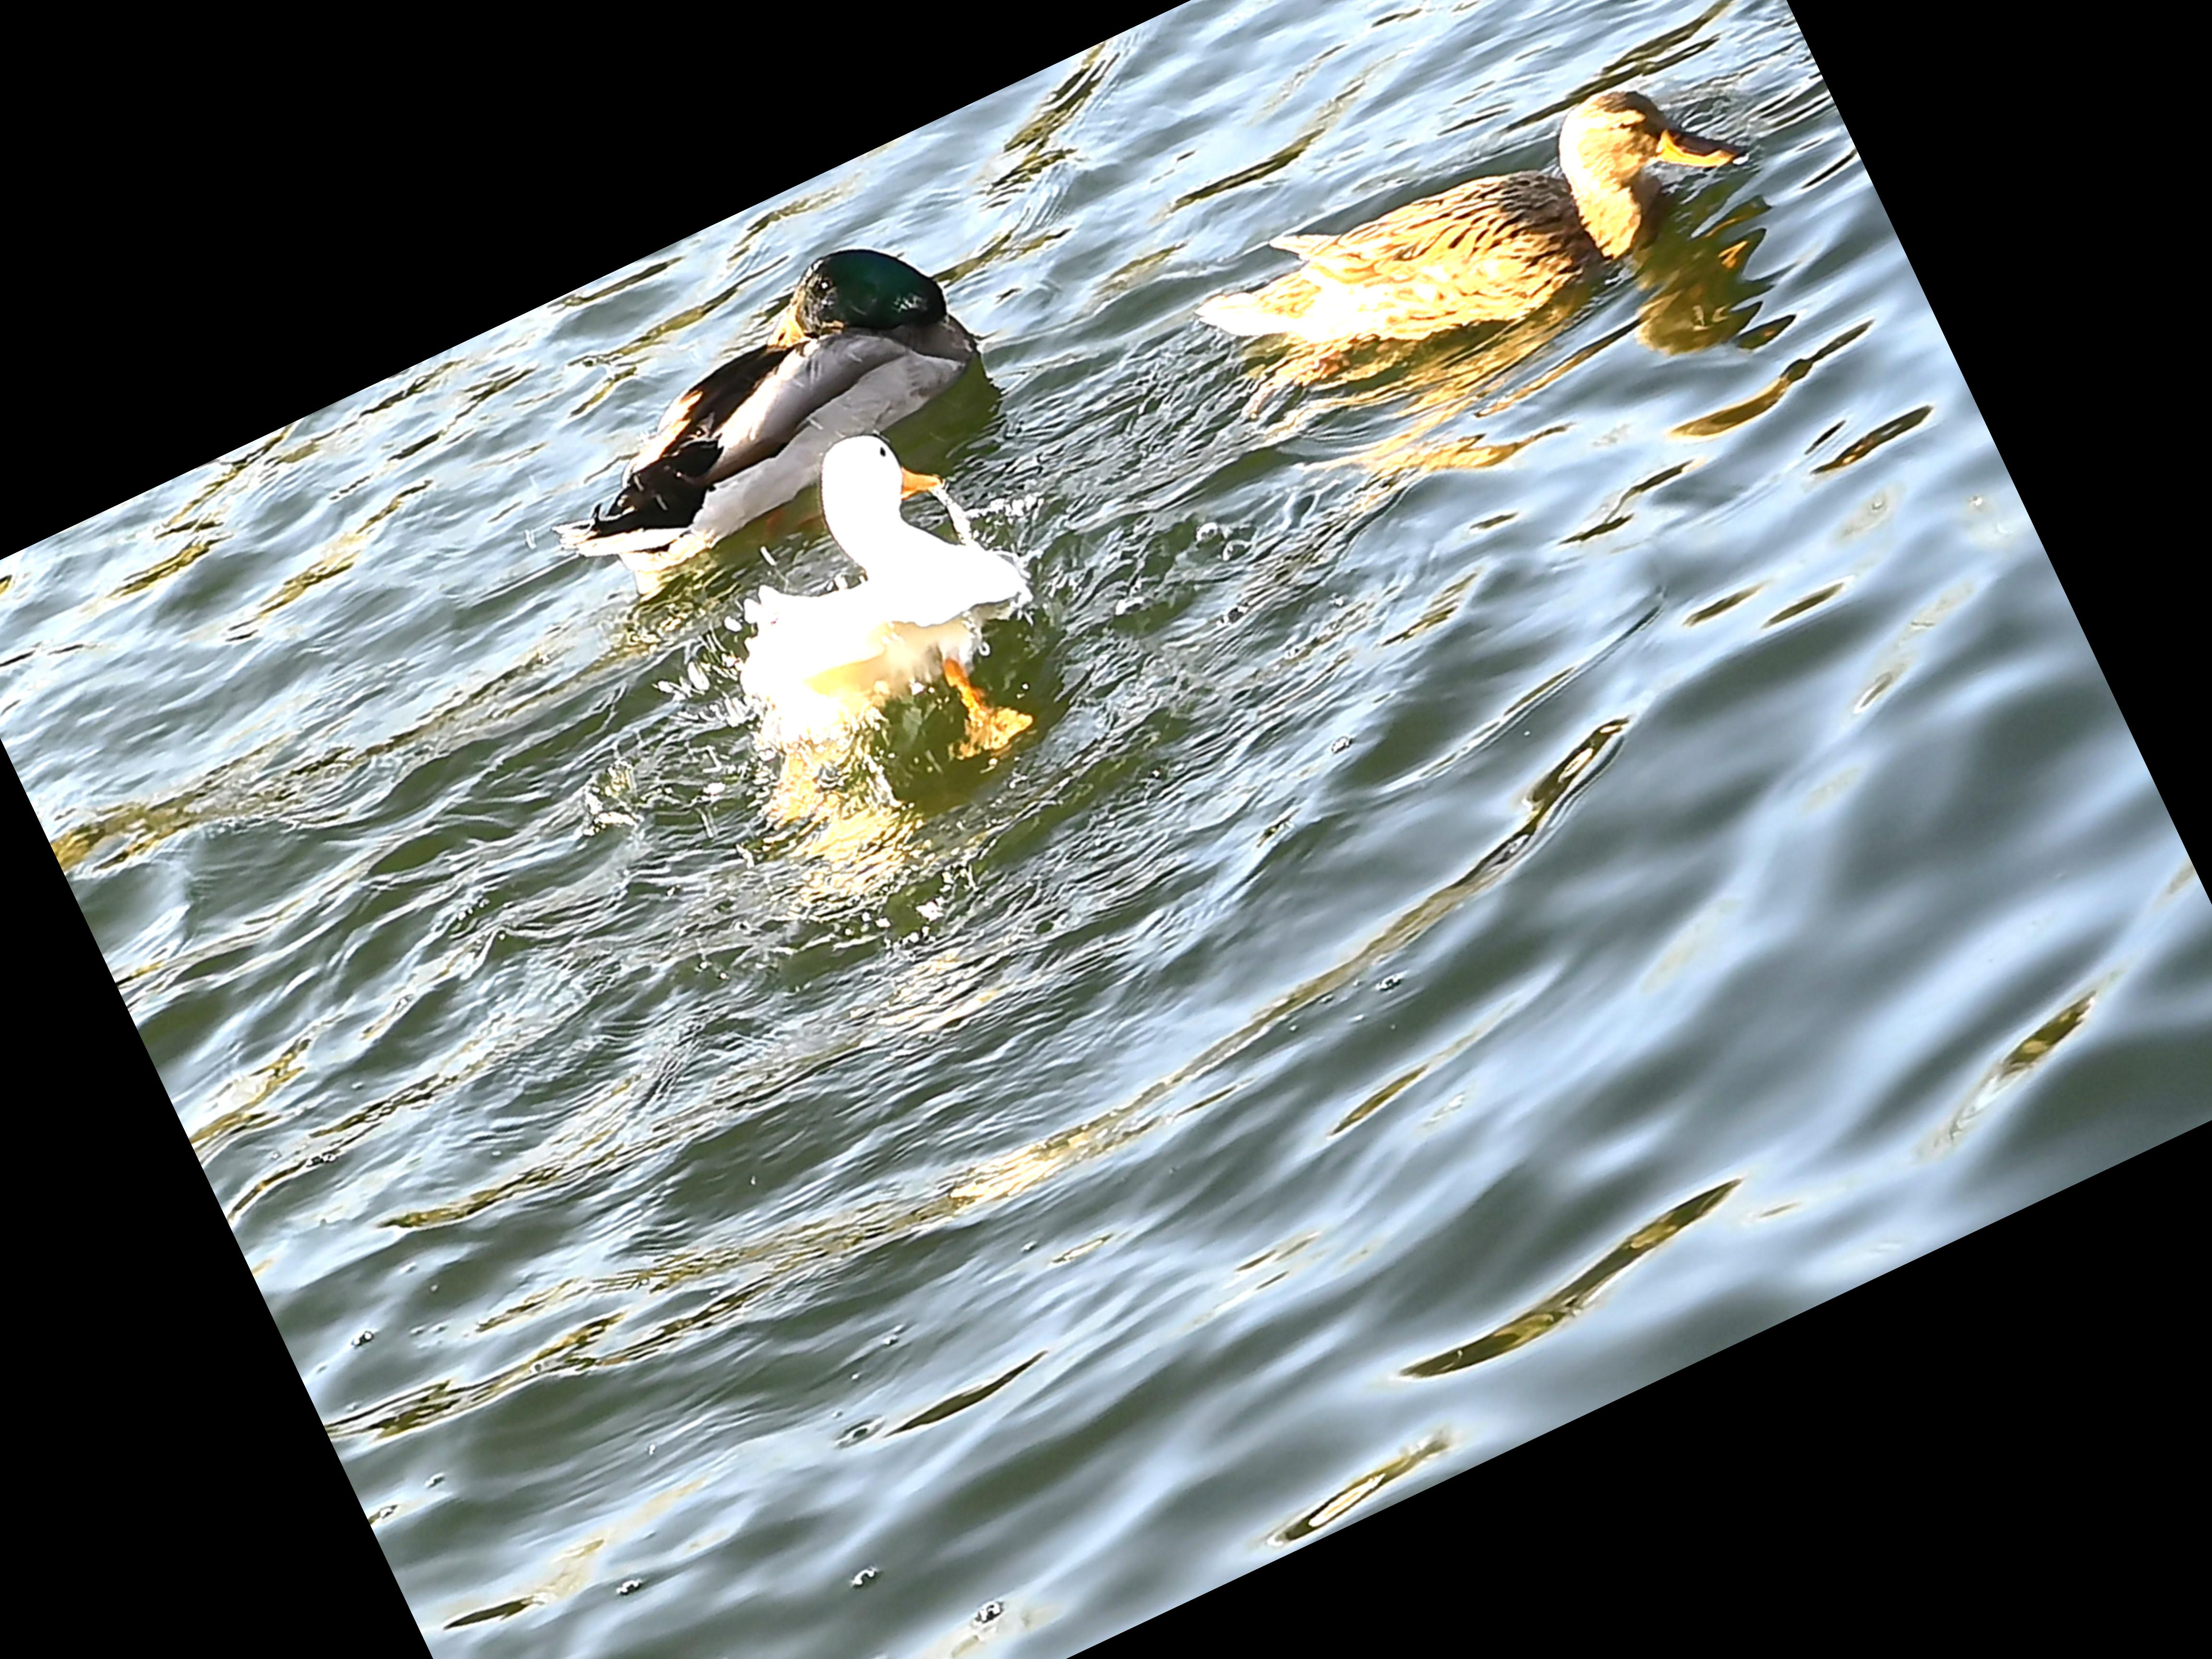duck: (1144, 0, 1817, 497), (608, 385, 1106, 885), (498, 202, 1024, 612)
